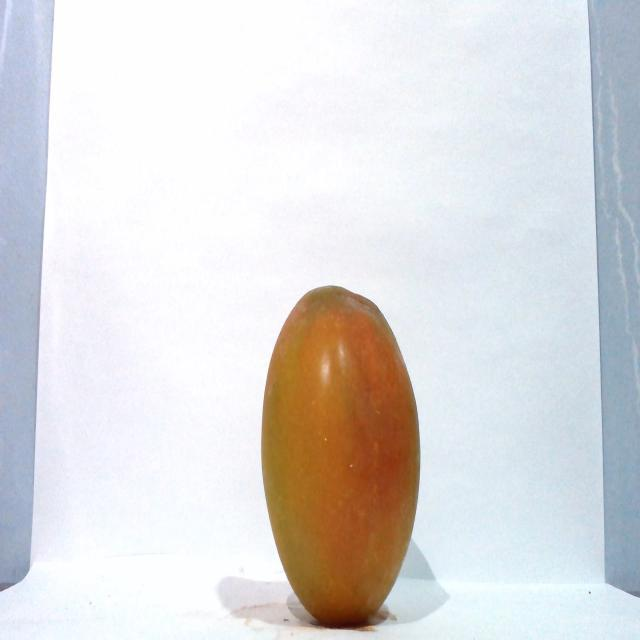Red: (259, 283, 422, 626)
